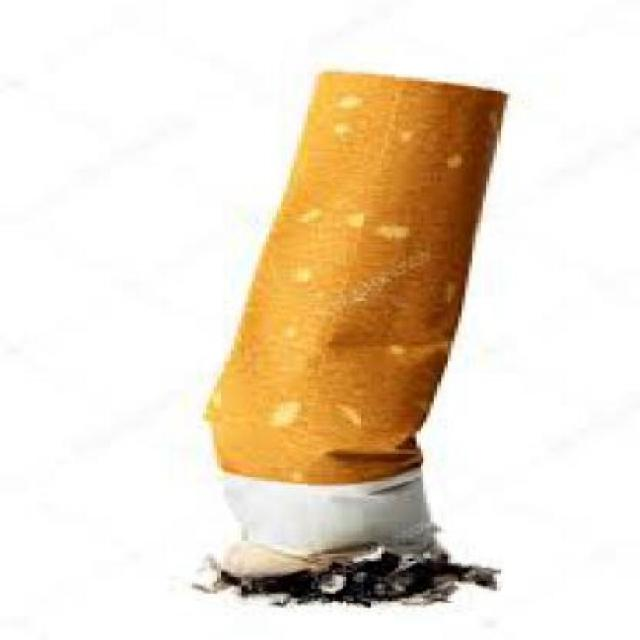cigarette: (234, 60, 528, 598)
